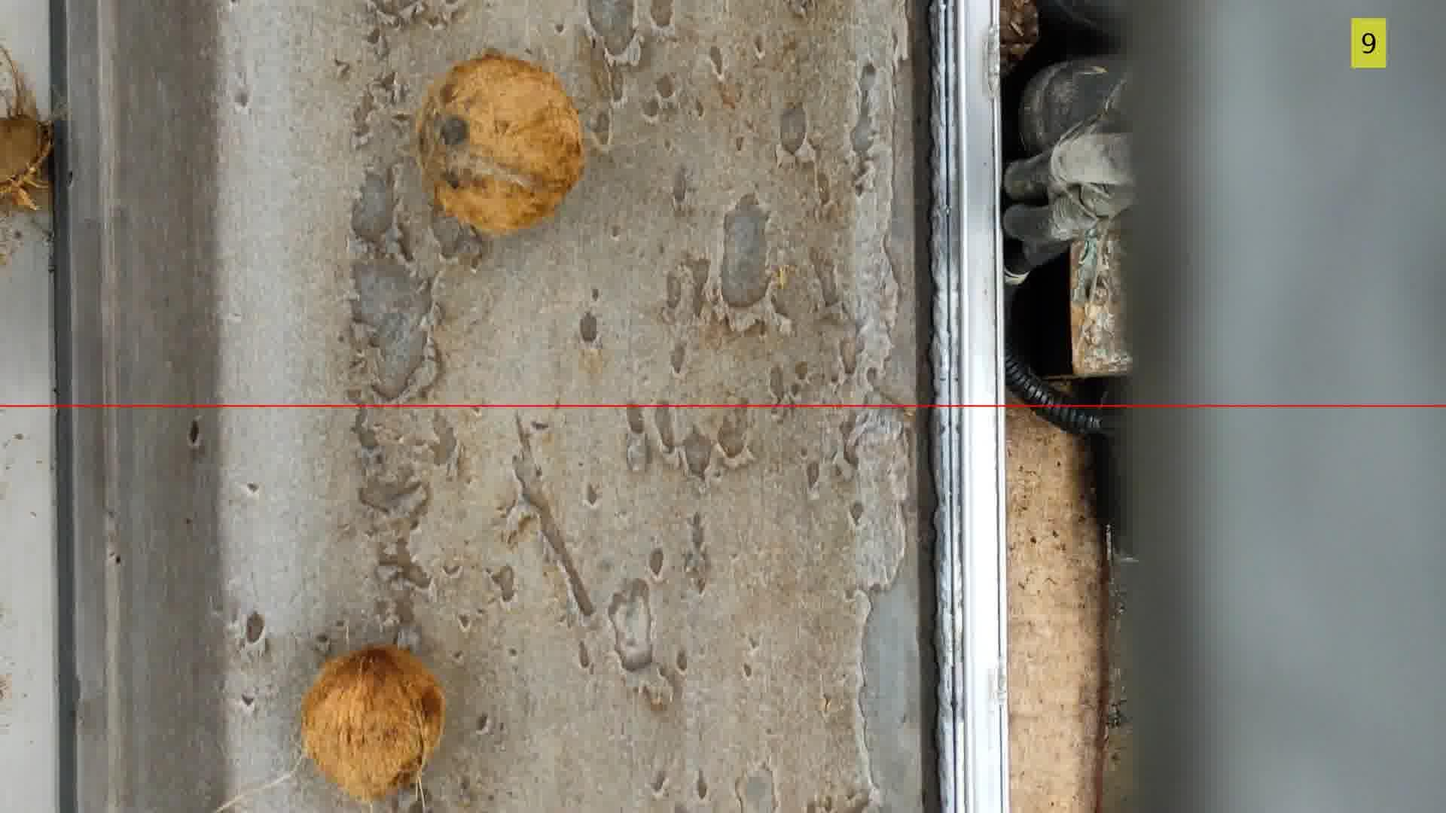Coconut: (419, 52, 584, 231), (301, 644, 444, 800), (0, 48, 53, 209)
